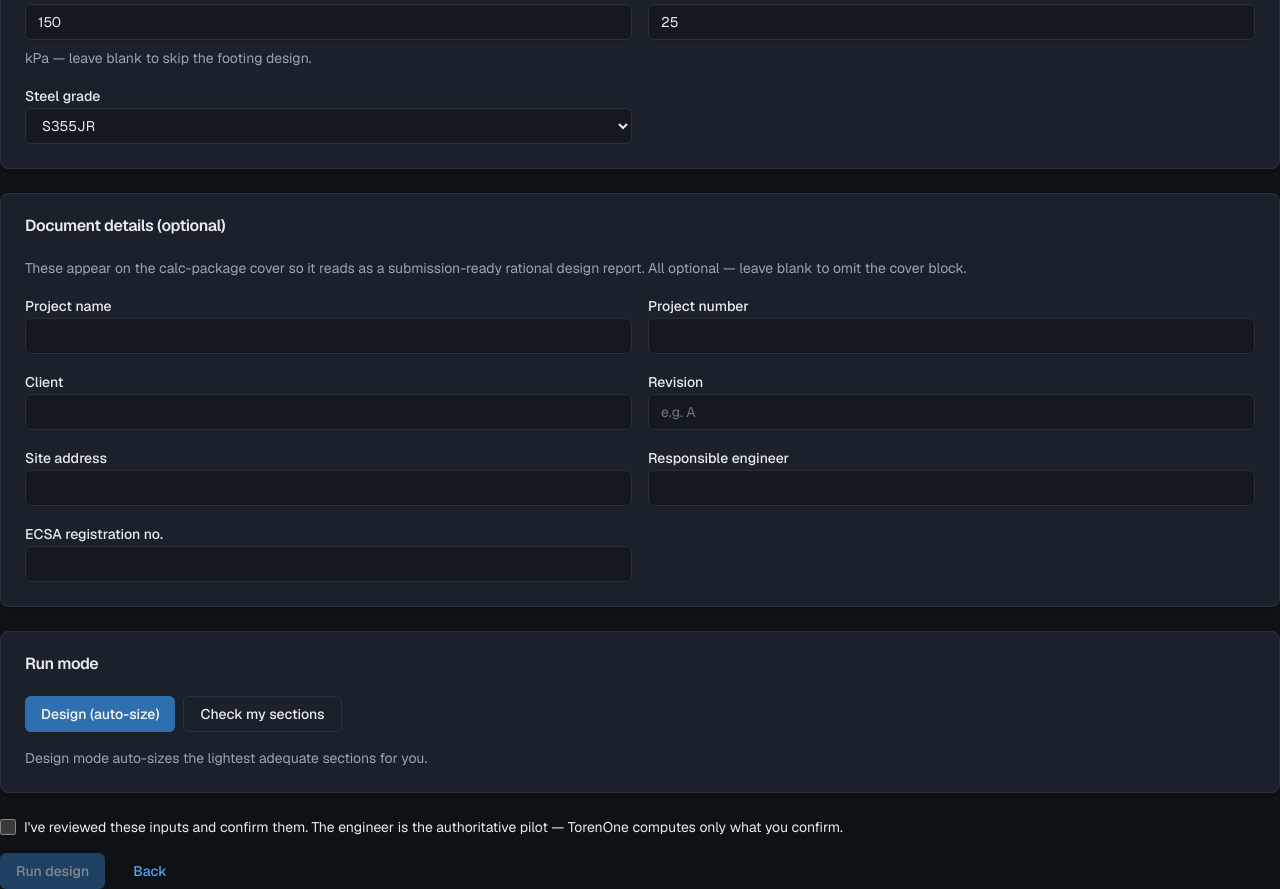
Test: ReviewStep › surfaces a service error from the design run
The width and height of the screenshot is (1280, 889).
(page scrolled)
Click the checkbox labelled "reviewed these inputs" at {"x": 8, "y": 826}, box x1=0 y1=818 x2=16 y2=834
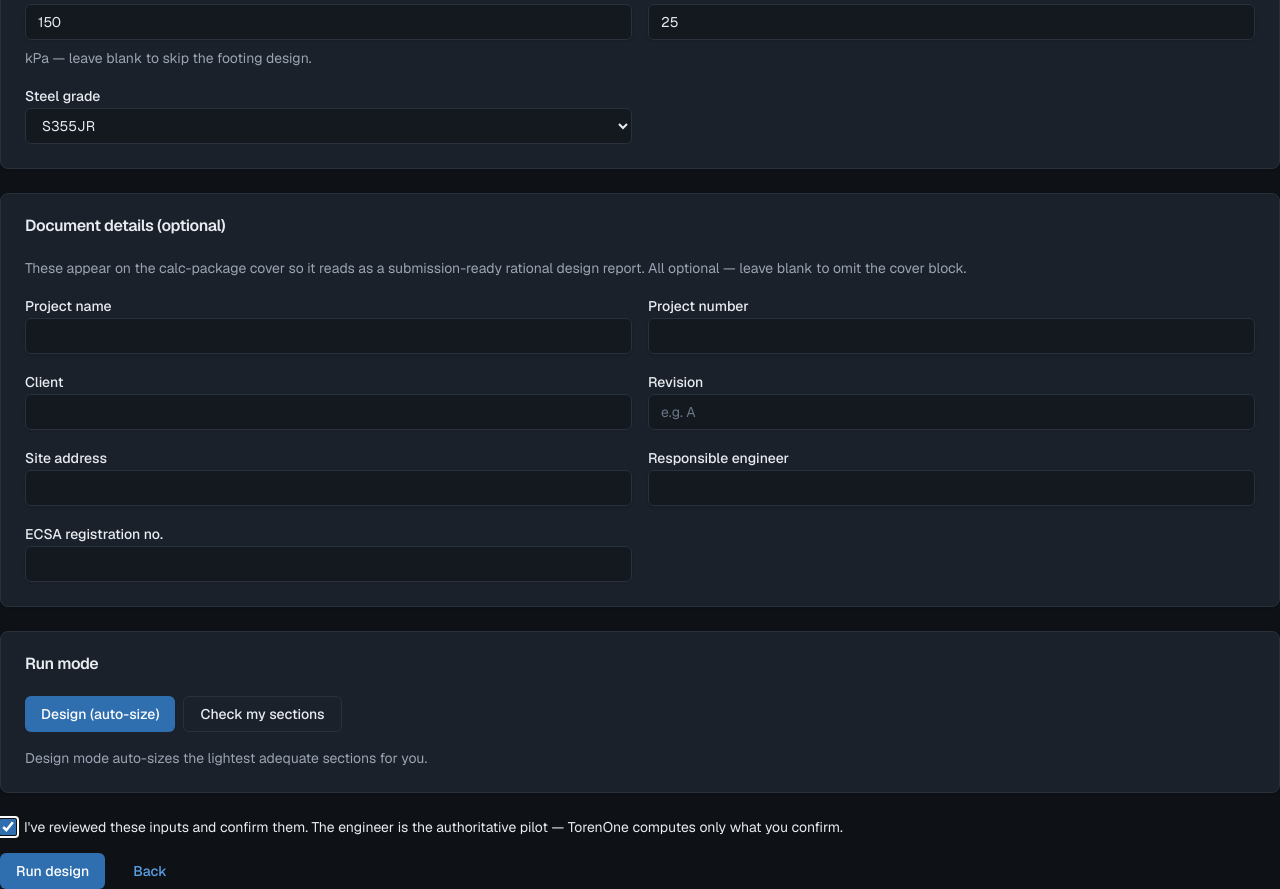
Click the button "Run design" at {"x": 53, "y": 870}, box x1=0 y1=852 x2=105 y2=888
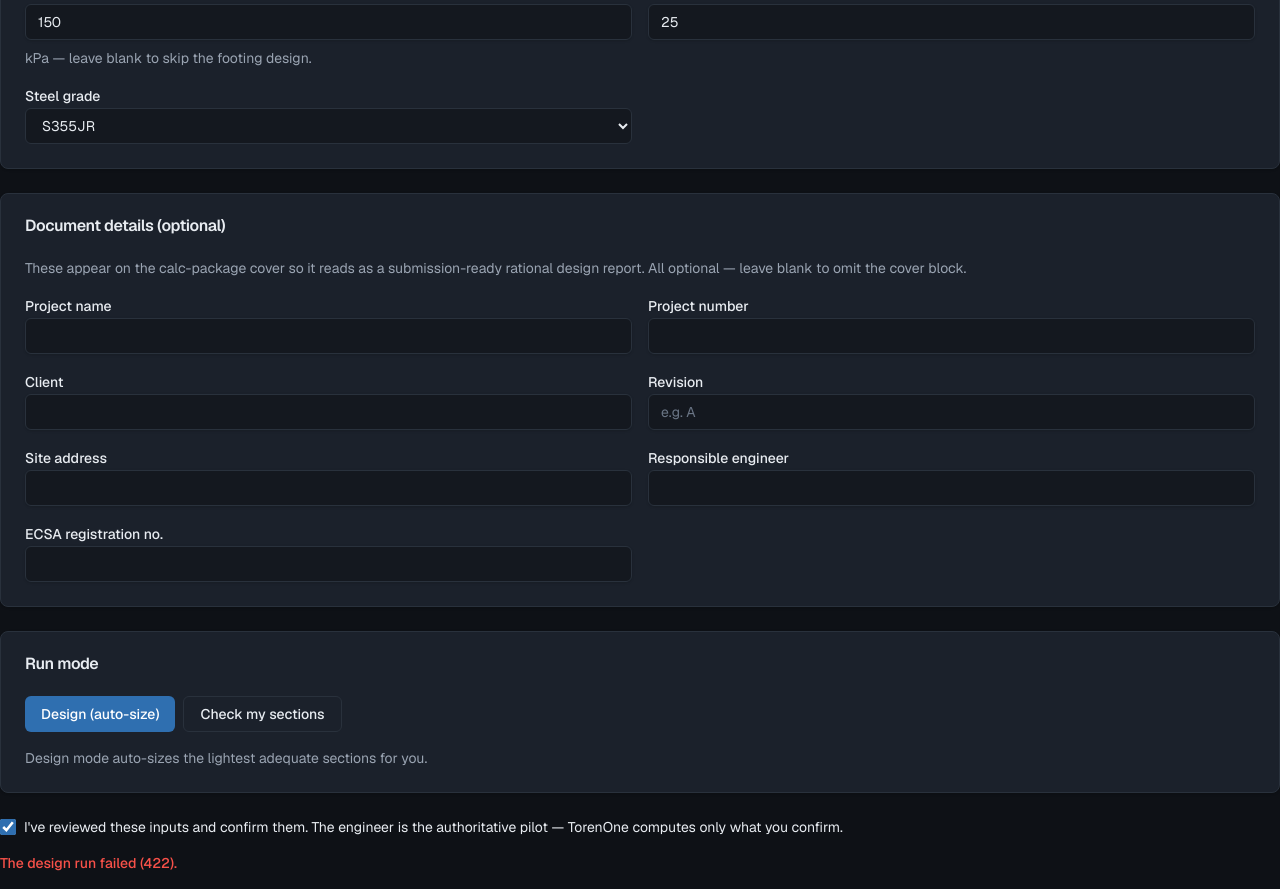
Result: the text "The design run failed (422)." is shown at x1=0 y1=854 x2=177 y2=872
